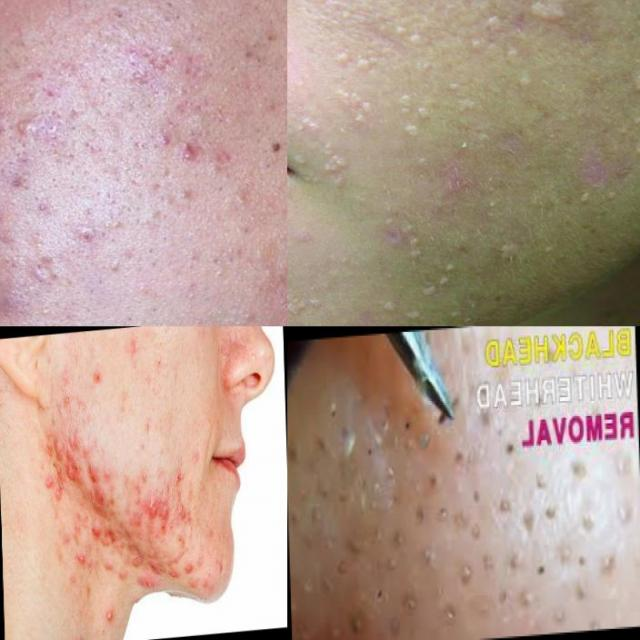7: (319, 143, 352, 195), (522, 4, 566, 25), (288, 298, 306, 322)
8: (0, 270, 34, 326)
9: (102, 601, 117, 632), (59, 389, 76, 415)
blackheads: (0, 108, 52, 150), (567, 149, 615, 194), (86, 453, 112, 519), (424, 158, 464, 199), (367, 220, 408, 256), (83, 516, 121, 550), (142, 488, 170, 534), (132, 565, 162, 597), (63, 448, 84, 491), (39, 466, 55, 494)
dark spot: (292, 378, 494, 640), (552, 453, 620, 622), (486, 462, 553, 606), (84, 0, 134, 40), (182, 433, 202, 477), (127, 356, 146, 394), (152, 350, 169, 386)
